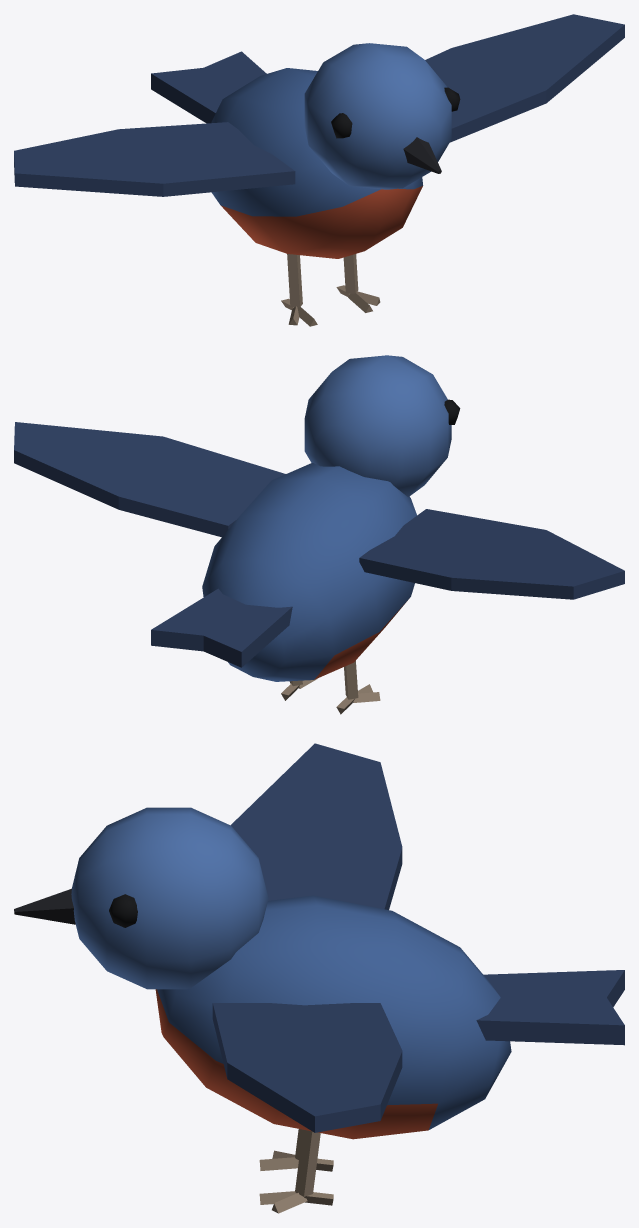
Rendered from bird_rockthrush.glb.
3 views of the same model, one above another, from view 1: azimuth 30°, elevation 25°; view 2: azimuth 150°, elevation 25°; view 3: azimuth 270°, elevation 25° (orthographic). The views are drawn at different scales.
Visible parts, largest first — view 1: Bird_Body, Bird_Head, Bird_WingR, Bird_WingL, Bird_Legs; view 2: Bird_Body, Bird_WingL, Bird_Head, Bird_WingR, Bird_Legs; view 3: Bird_Body, Bird_Head, Bird_WingR, Bird_WingL, Bird_Legs.
Part boxes in pixels (x1,y1,x2,y2): Bird_Body: (151, 51, 423, 258); Bird_Head: (304, 43, 460, 189); Bird_WingR: (14, 122, 295, 196); Bird_WingL: (425, 14, 624, 142); Bird_Legs: (281, 254, 380, 326); Bird_Body: (151, 463, 416, 681); Bird_WingL: (14, 422, 285, 537); Bird_Head: (304, 355, 460, 497); Bird_WingR: (359, 509, 624, 599); Bird_Legs: (281, 660, 380, 714); Bird_Body: (155, 895, 624, 1139); Bird_Head: (14, 807, 268, 989); Bird_WingR: (230, 743, 402, 909); Bird_WingL: (212, 1003, 402, 1132); Bird_Legs: (259, 1129, 333, 1213).
Bounding box in the file's own units: 0.242 × 0.1131 × 0.1675.
